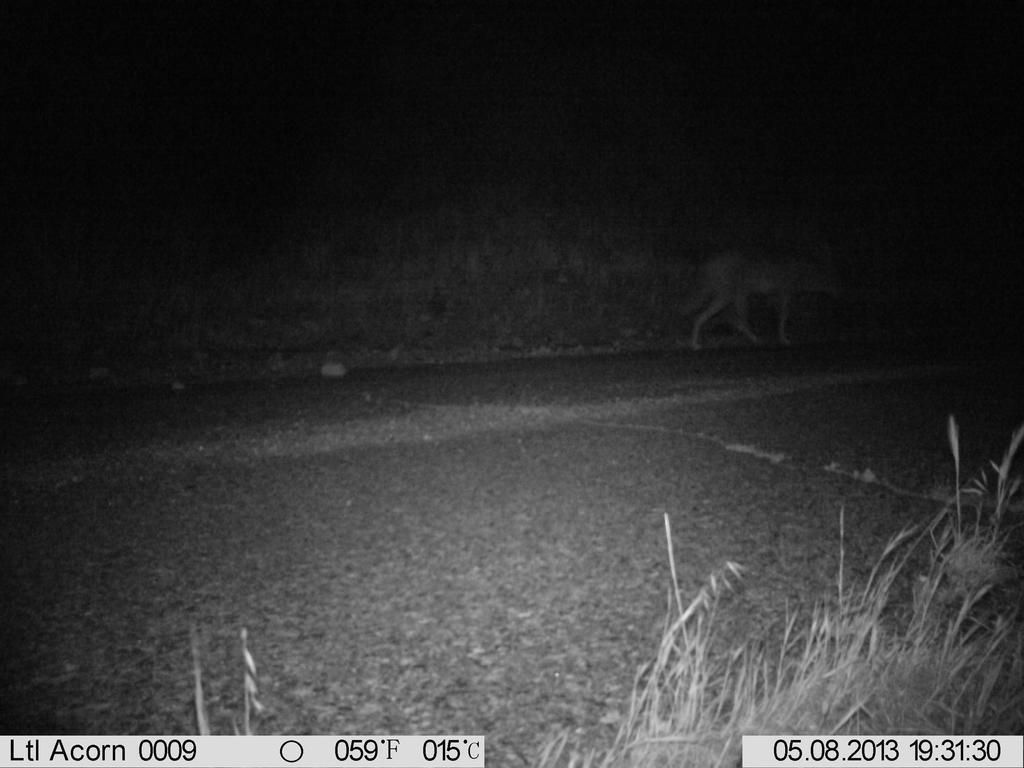coyote: (680, 227, 825, 353)
